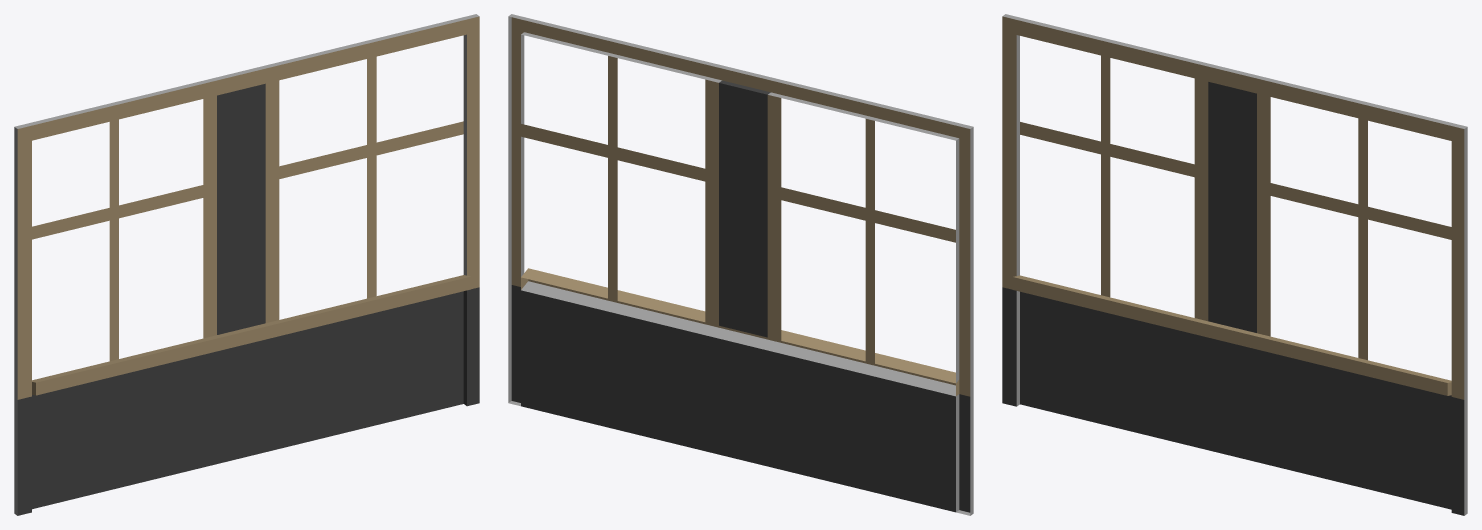
File: WallOutside.fbx
3 views of the same model, side by side, from view 1: azimuth 30°, elevation 25°; view 2: azimuth 150°, elevation 25°; view 3: azimuth 330°, elevation 25° (orthographic).
Parts seen in each view (by area): view 1: WallWindow_Outside; view 2: WallWindow_Outside; view 3: WallWindow_Outside.
Boxes of the visible parts, x1,y1,x2,y2 form: WallWindow_Outside: (14,14,479,515); WallWindow_Outside: (508,14,973,515); WallWindow_Outside: (1002,14,1467,515).
Size of the model in its own units: 4.55 by 3.64 by 0.1244.
